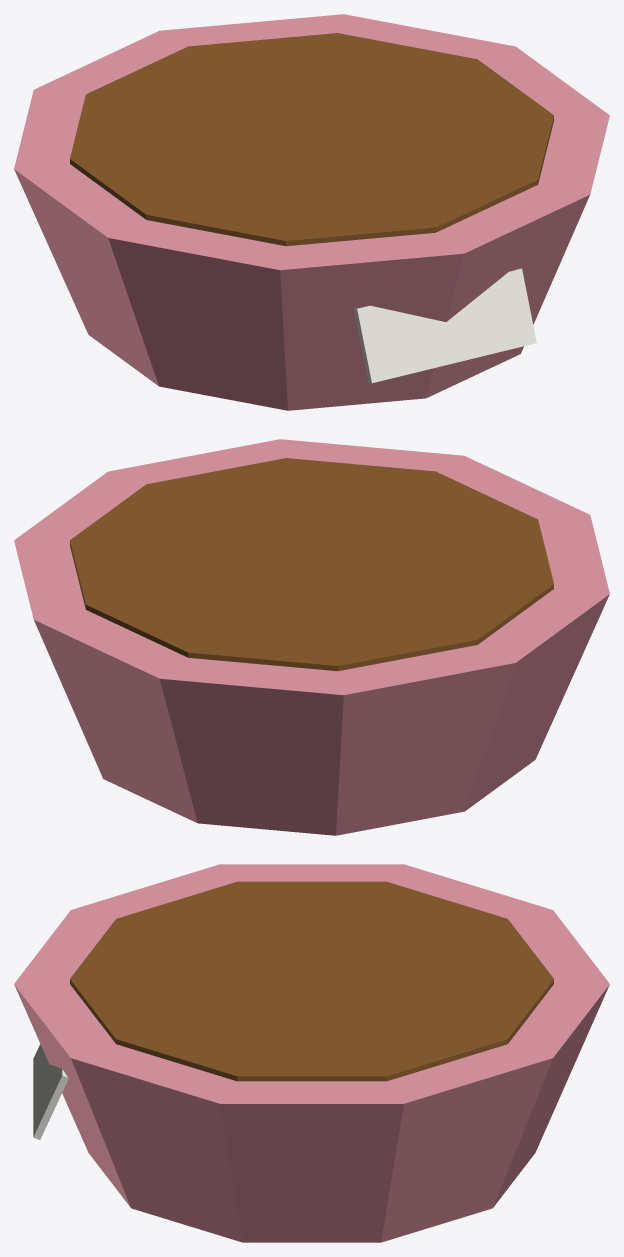
The model's file is catBowl.fbx.
The picture shows the model from 3 angles, top to bottom: view 1: azimuth 30°, elevation 25°; view 2: azimuth 150°, elevation 25°; view 3: azimuth 270°, elevation 25°; orthographic projection. The views are drawn at different scales.
Parts seen in each view (by area): view 1: catBowl; view 2: catBowl; view 3: catBowl.
Boxes of the visible parts, left/top/right/bottom form: catBowl: left=14, top=14, right=609, bottom=410; catBowl: left=14, top=439, right=609, bottom=835; catBowl: left=14, top=864, right=609, bottom=1242.
Size of the model in its own units: 0.6087 by 0.206 by 0.64.
